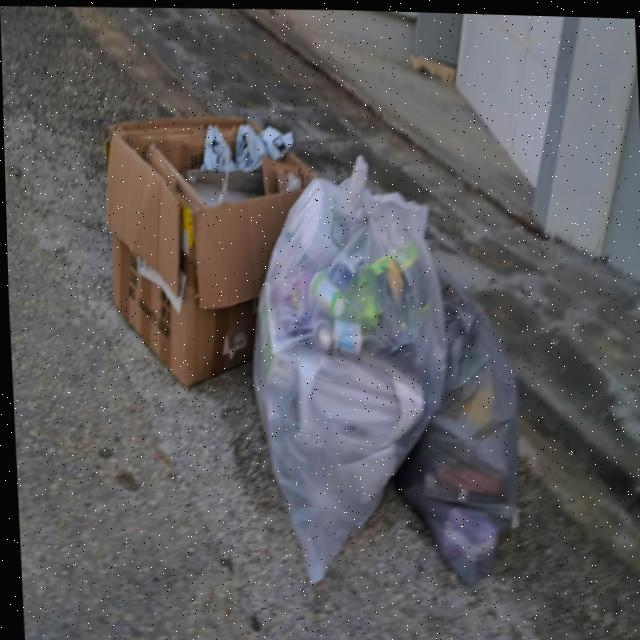Recycled Waste -Grey or Green Bag-: (244, 149, 452, 586), (97, 108, 327, 393), (382, 267, 524, 590)
